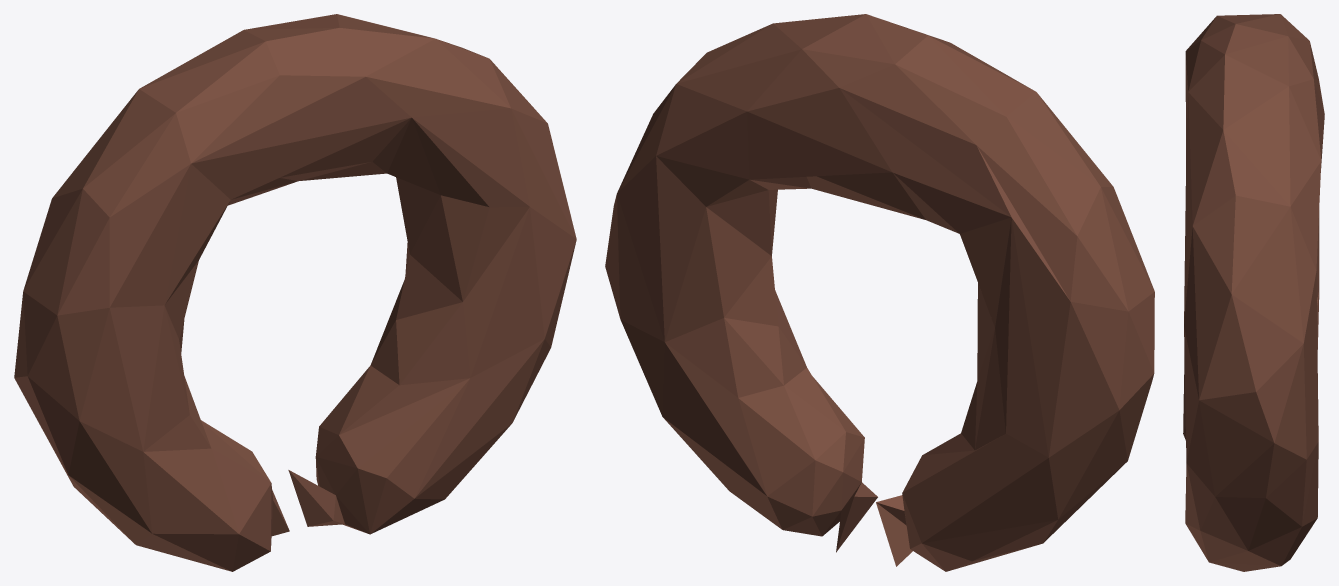
File: lyoner2.fbx
3 renders of one model, left to right at view 1: azimuth 30°, elevation 25°; view 2: azimuth 150°, elevation 25°; view 3: azimuth 270°, elevation 25°, orthographic. The views are drawn at different scales.
Visible parts, largest first — view 1: Cube; view 2: Cube; view 3: Cube.
Part boxes in pixels (x1=…): Cube: x1=14, y1=14, x2=576, y2=571; Cube: x1=605, y1=14, x2=1154, y2=571; Cube: x1=1183, y1=14, x2=1324, y2=571.
Bounding box in the file's own units: 897 × 828 × 215.
